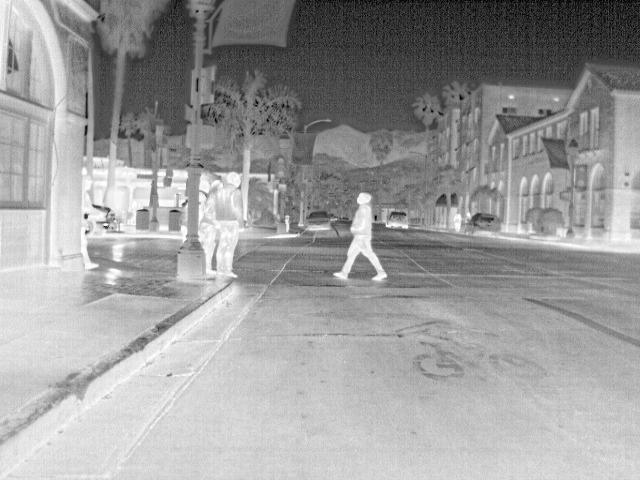car: (460, 212, 504, 239), (82, 204, 115, 234), (304, 211, 338, 232), (384, 210, 411, 231)
person: (332, 191, 389, 284), (213, 172, 245, 280), (198, 179, 224, 274), (82, 176, 107, 270)
